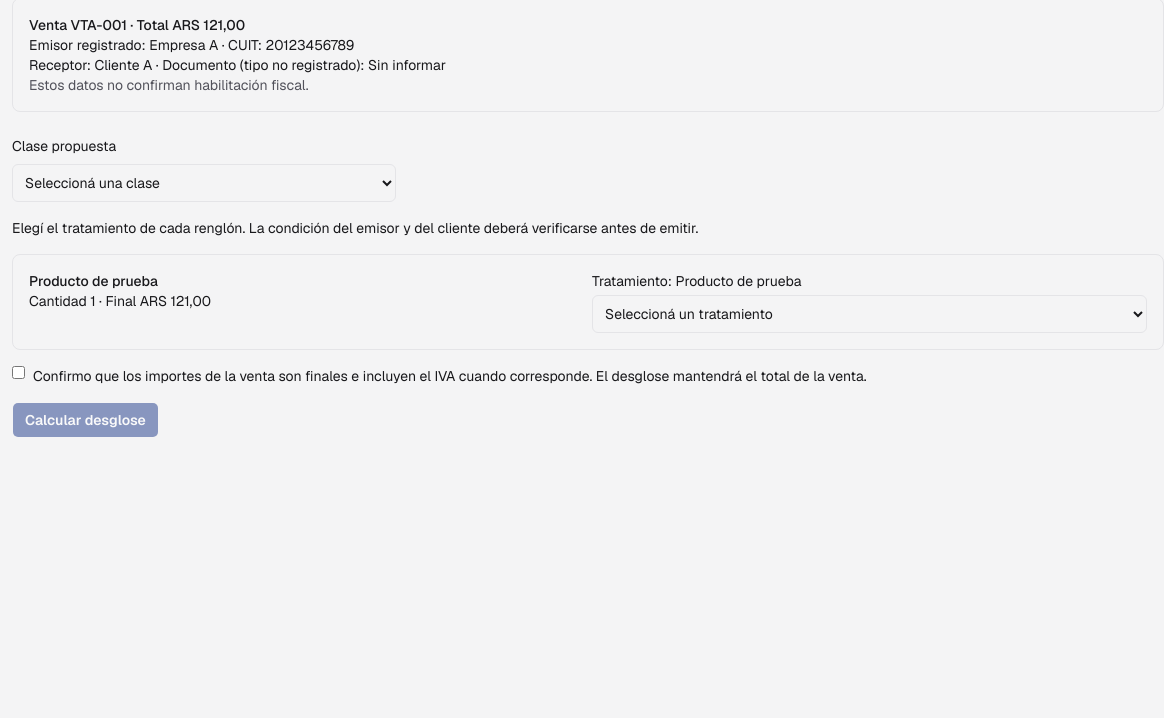
Test: Fiscal draft preparation › requires explicit class, tax treatment and final amount confirmation before server preview
expect the dropdown labelled "Tratamiento: Producto de prueba" shows "Seleccioná un tratamiento": met, box [592,295,1147,333]
expect the checkbox is not checked: met, box [12,366,25,379]
Select "B" in the dropdown labelled "Clase propuesta" at {"x": 204, "y": 183}, box [12,164,396,202]
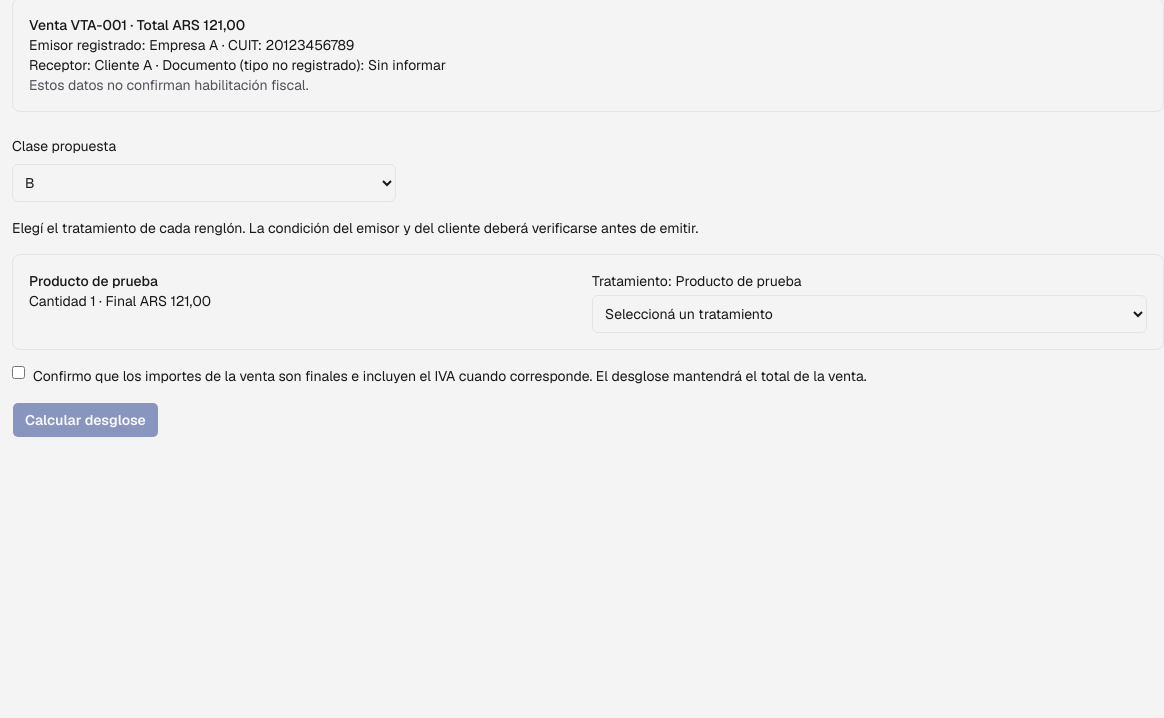
Select "IVA 21%" in the dropdown labelled "Tratamiento: Producto de prueba" at {"x": 870, "y": 314}, box [592,295,1147,333]
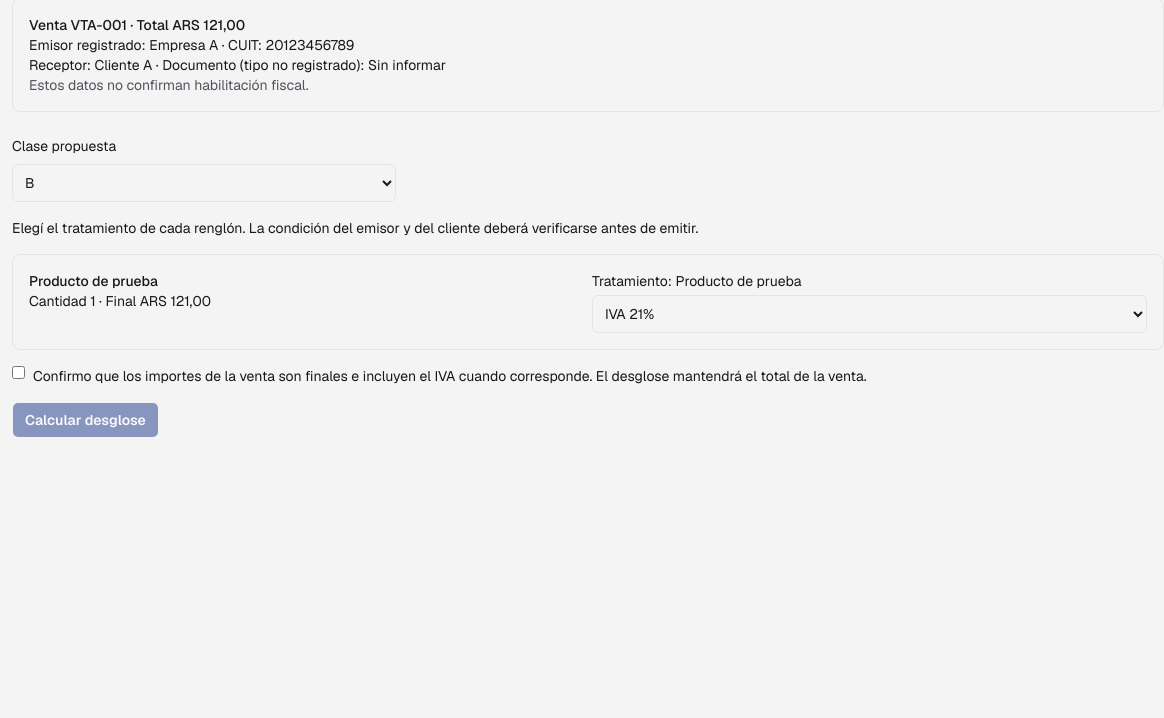
Click the checkbox at {"x": 18, "y": 372}, box [12,366,25,379]
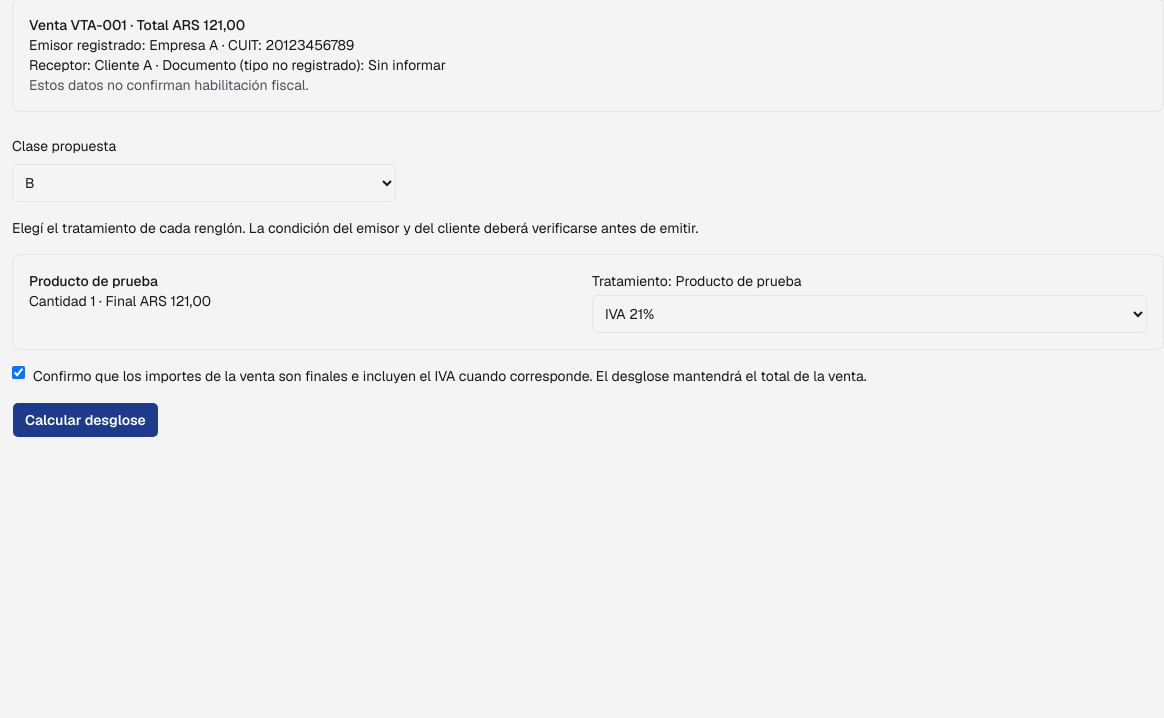
Click the button "Calcular desglose" at {"x": 85, "y": 420}, box [12,402,159,438]
(page scrolled)
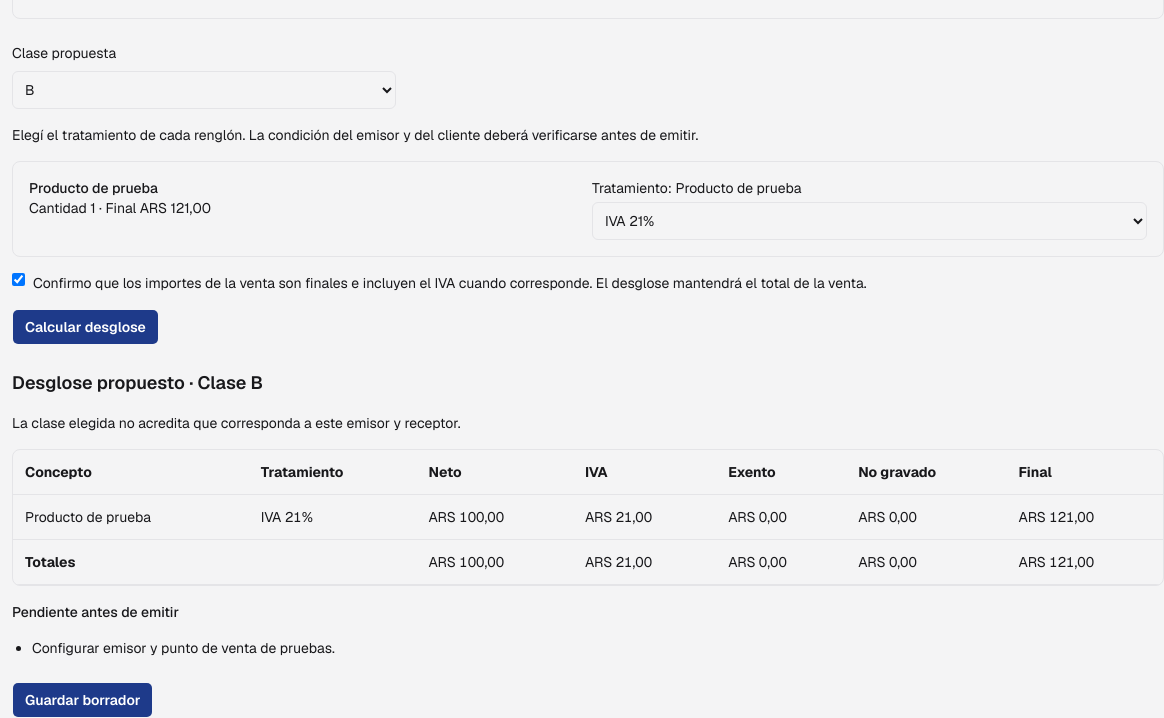
expect the heading "Desglose propuesto · Clase B" is shown: met, box [12,371,263,394]
expect the text "ARS 21,00" is shown 2 times: met, box [573,494,716,540]; [573,540,716,584]
Click the button "Guardar borrador" at {"x": 83, "y": 700}, box [12,682,153,717]
(page scrolled)
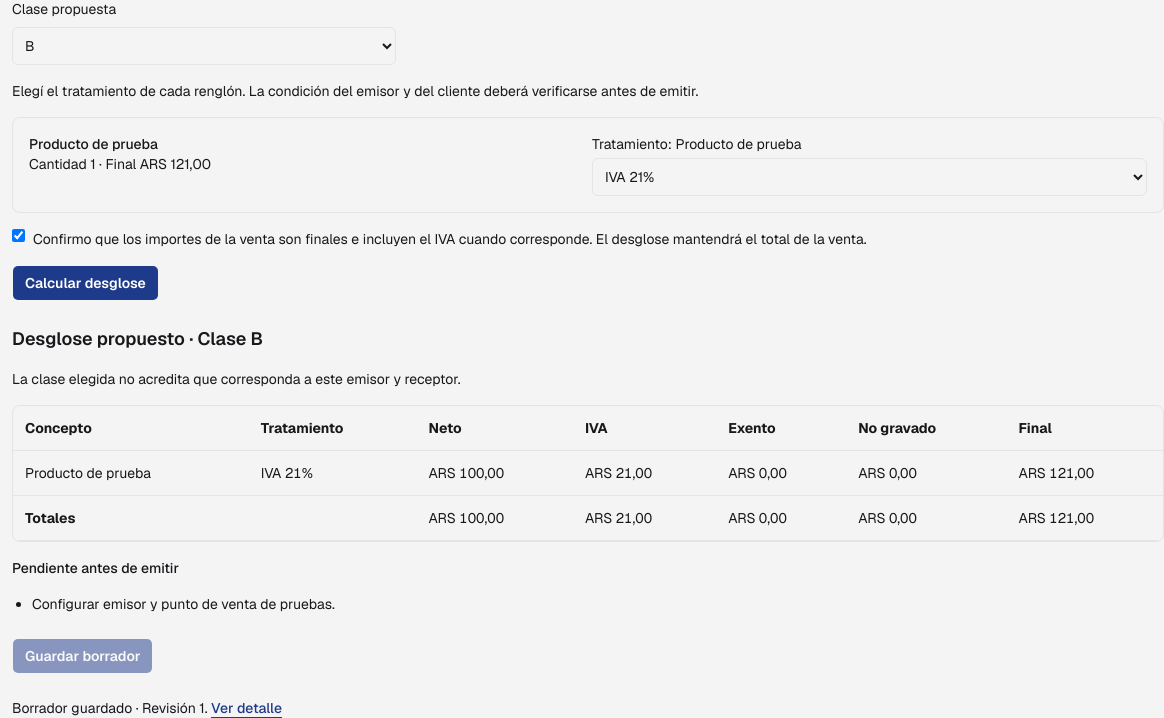
expect the message "Borrador guardado · Revisión 1. Ver detalle" is shown: met, box [12,699,282,717]
